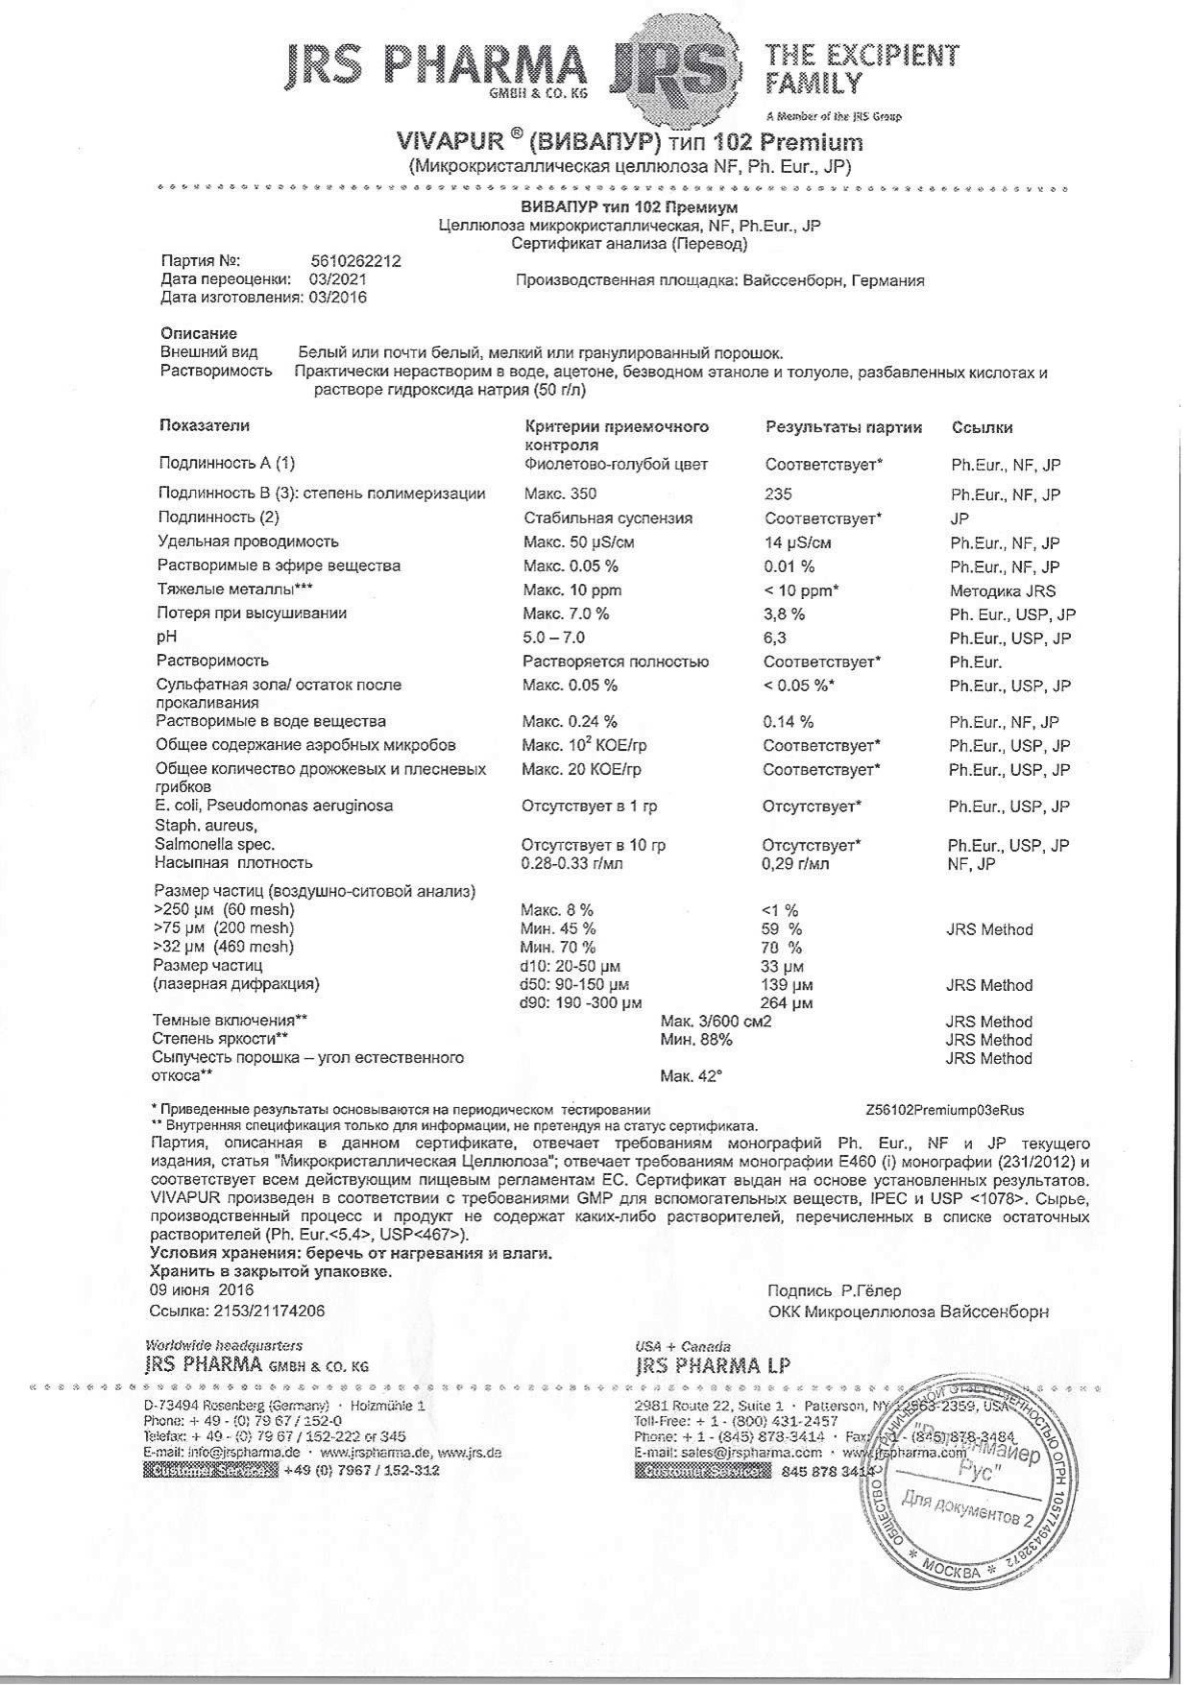nolines: (144, 251, 1079, 1086)
